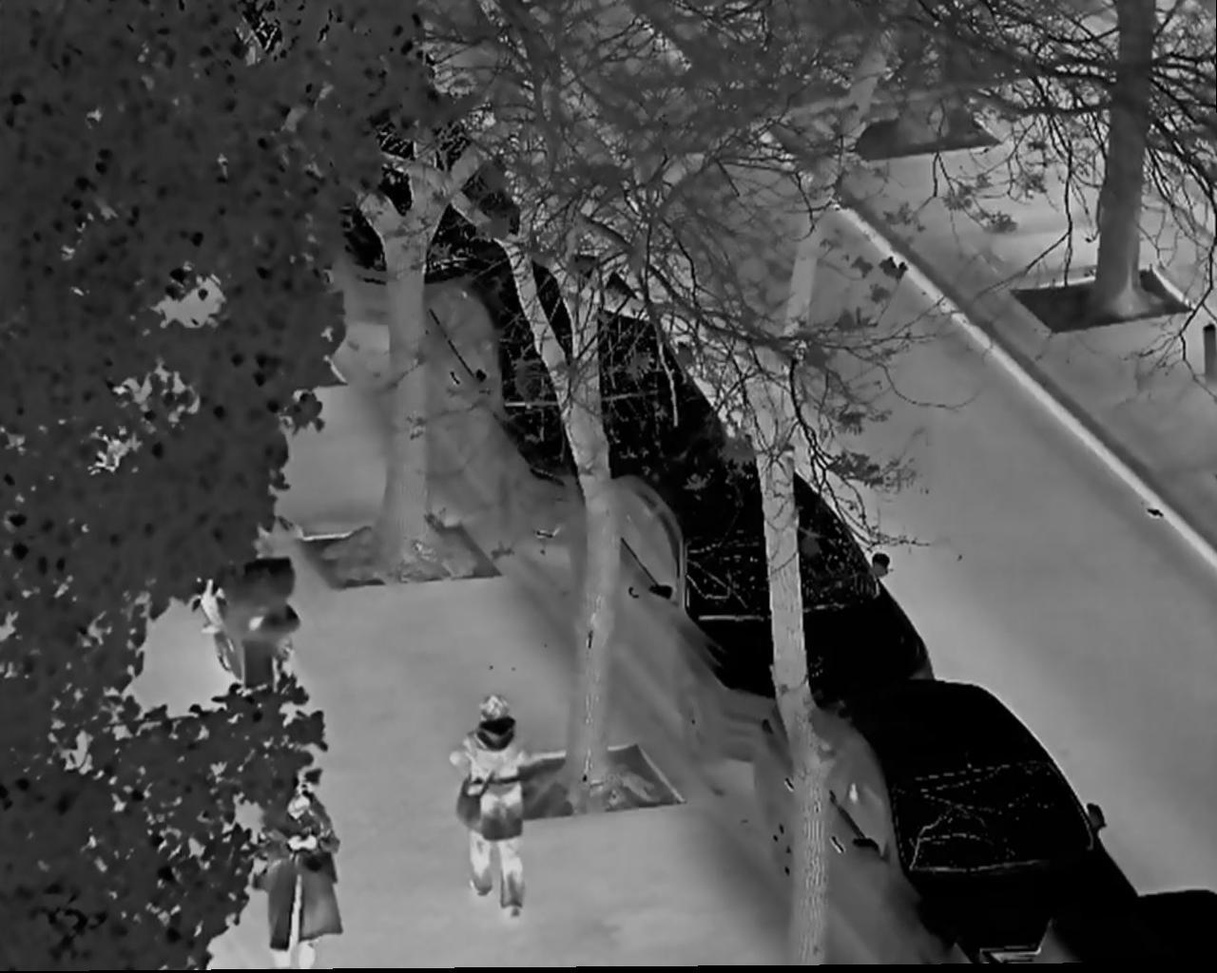person: (443, 690, 545, 925), (255, 774, 344, 964)
